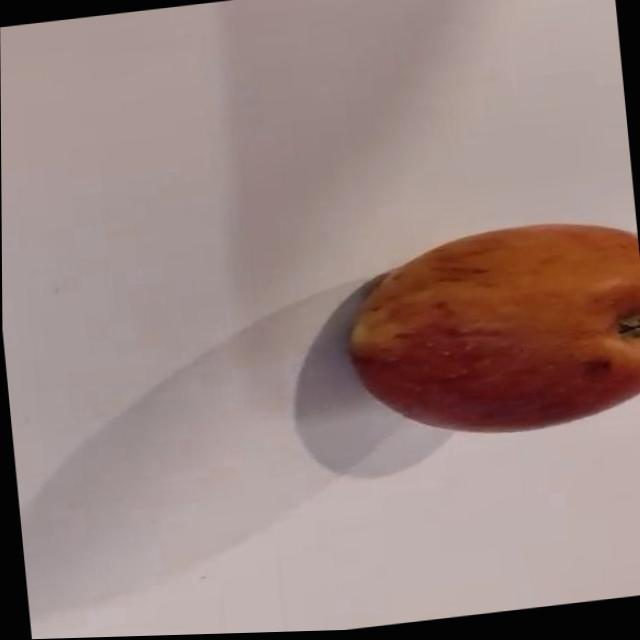Apple: (335, 216, 640, 454)
